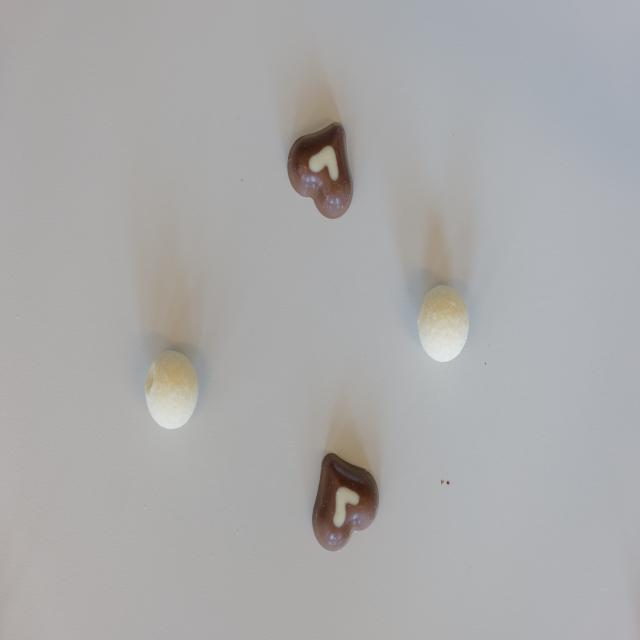Comtesse: (146, 350, 199, 432), (416, 286, 470, 363)
Passion_au_lait: (310, 453, 380, 554), (289, 124, 354, 222)
